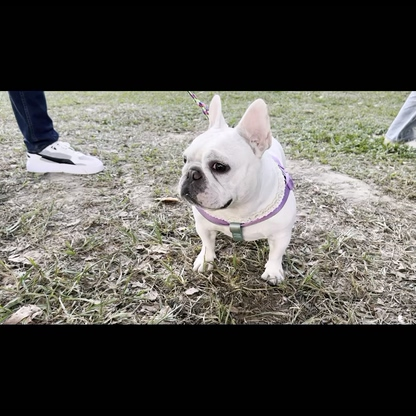bulldog: (175, 92, 301, 288)
